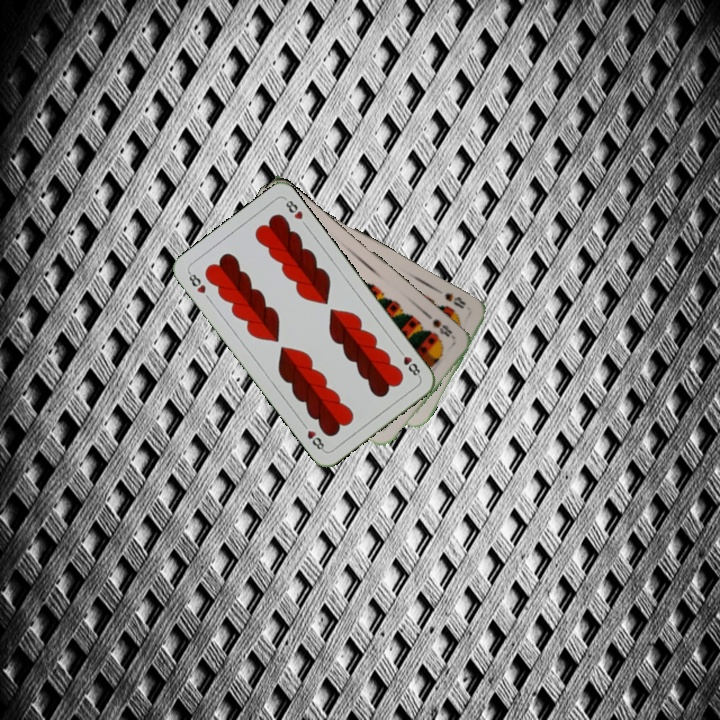H8: (394, 345, 423, 380), (184, 268, 208, 296)
S8: (428, 315, 458, 342), (441, 289, 468, 311)
